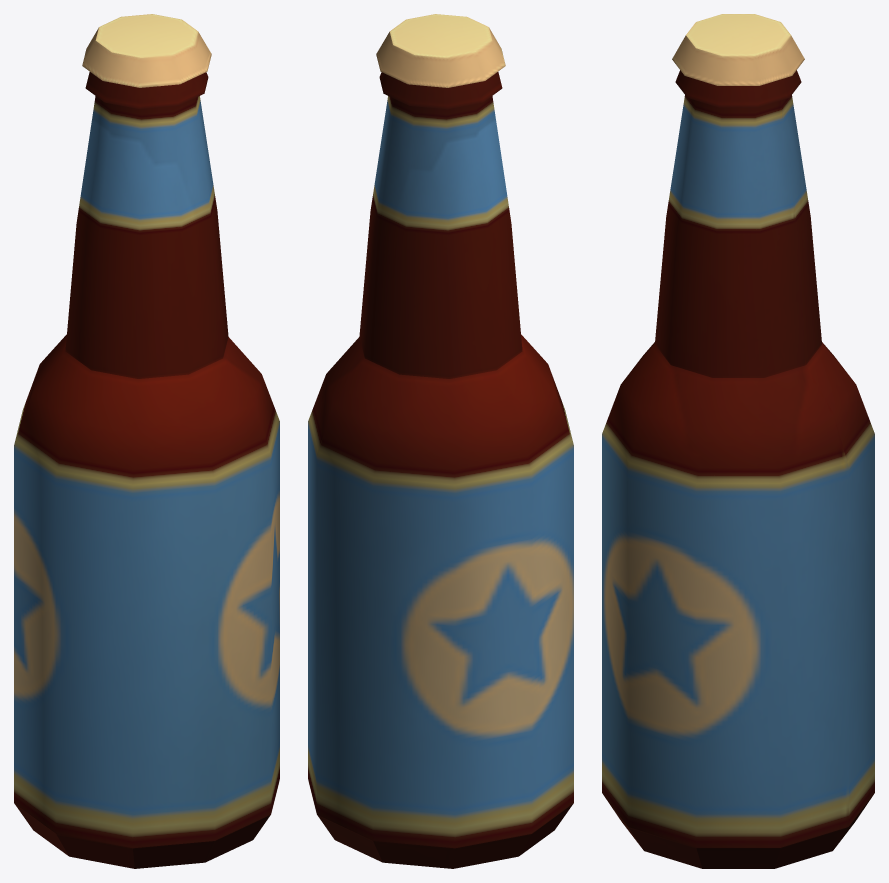
Rendered from BeerBottle.fbx.
3 renders of one model, left to right at view 1: azimuth 30°, elevation 25°; view 2: azimuth 150°, elevation 25°; view 3: azimuth 270°, elevation 25°, orthographic.
Visible parts, largest first — view 1: BeerBottle; view 2: BeerBottle; view 3: BeerBottle.
Boxes of the visible parts, x1=… form: BeerBottle: x1=14, y1=14, x2=279, y2=868; BeerBottle: x1=308, y1=14, x2=573, y2=868; BeerBottle: x1=602, y1=14, x2=874, y2=868.
Bounding box in the file's own units: 2.55 × 8.58 × 2.68.
